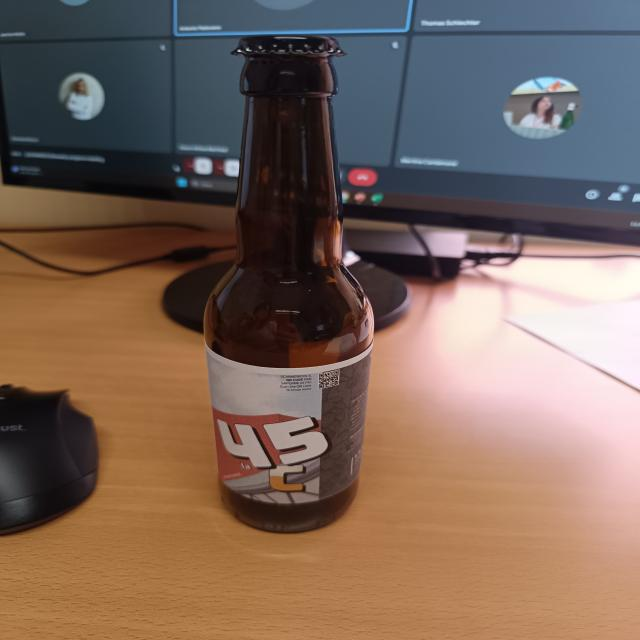Bottle: (198, 33, 374, 535)
Cap: (225, 33, 350, 63)
Label: (201, 336, 372, 506)
